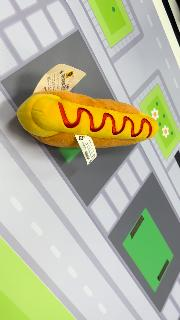hotdog: (16, 90, 160, 150)
